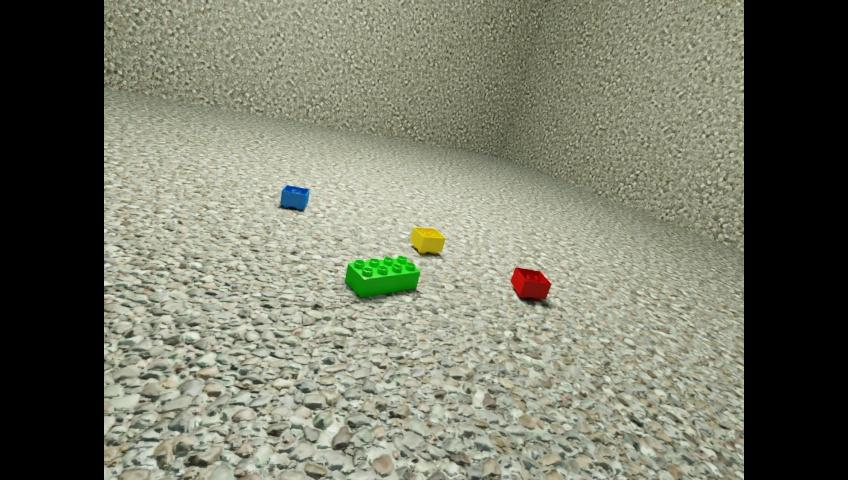2x2_blue: (280, 184, 309, 210)
2x2_red: (510, 266, 550, 300)
2x2_yellow: (410, 226, 444, 253)
4x2_green: (344, 255, 419, 297)
